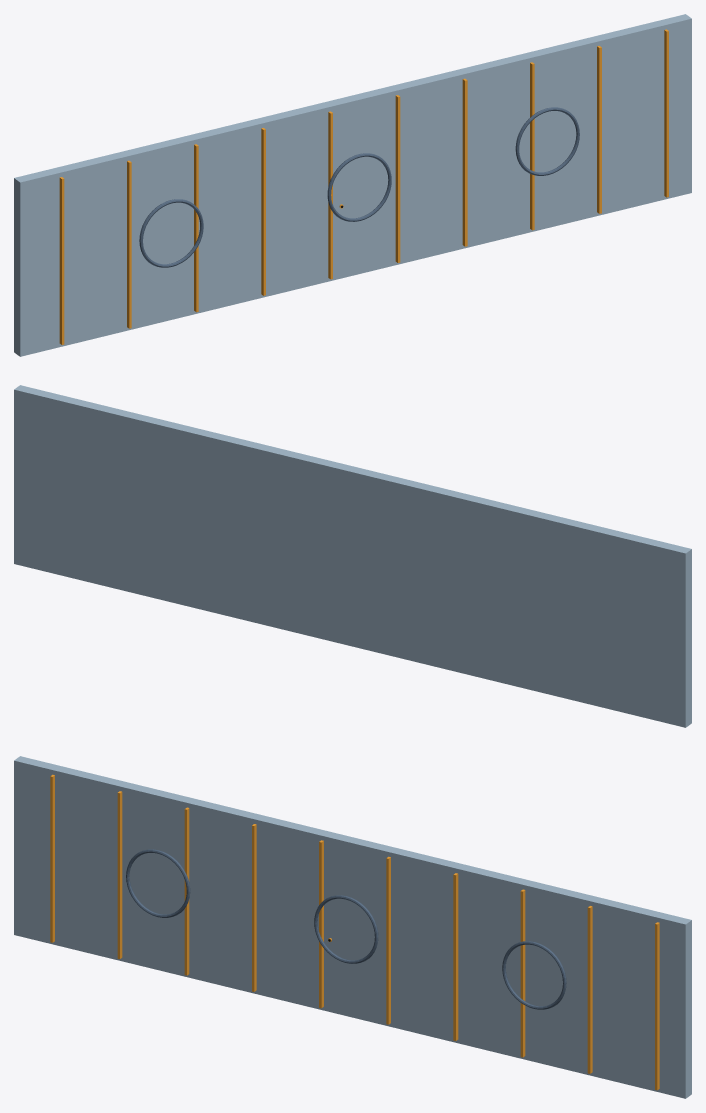
The model's file is 08_L88_PressurizedHabitatServiceBulkhead.fbx.
3 views of the same model, one above another, from view 1: azimuth 30°, elevation 25°; view 2: azimuth 150°, elevation 25°; view 3: azimuth 330°, elevation 25° (orthographic).
Visible parts, largest first — view 1: L87_PressurizedHabitatServiceBulkhead_Part_0000, L87_PressurizedHabitatServiceBulkhead_Part_0001, L87_PressurizedHabitatServiceBulkhead_Part_0002; view 2: L87_PressurizedHabitatServiceBulkhead_Part_0000; view 3: L87_PressurizedHabitatServiceBulkhead_Part_0000, L87_PressurizedHabitatServiceBulkhead_Part_0001, L87_PressurizedHabitatServiceBulkhead_Part_0002.
Boxes of the visible parts, x1,y1,x2,y2 form: L87_PressurizedHabitatServiceBulkhead_Part_0000: (14,14,691,356); L87_PressurizedHabitatServiceBulkhead_Part_0001: (59,29,668,344); L87_PressurizedHabitatServiceBulkhead_Part_0002: (139,107,579,267); L87_PressurizedHabitatServiceBulkhead_Part_0000: (14,385,691,727); L87_PressurizedHabitatServiceBulkhead_Part_0000: (14,756,691,1098); L87_PressurizedHabitatServiceBulkhead_Part_0001: (50,774,659,1090); L87_PressurizedHabitatServiceBulkhead_Part_0002: (126,849,566,1009).
Size of the model in its own units: 2500 by 620 by 69.
